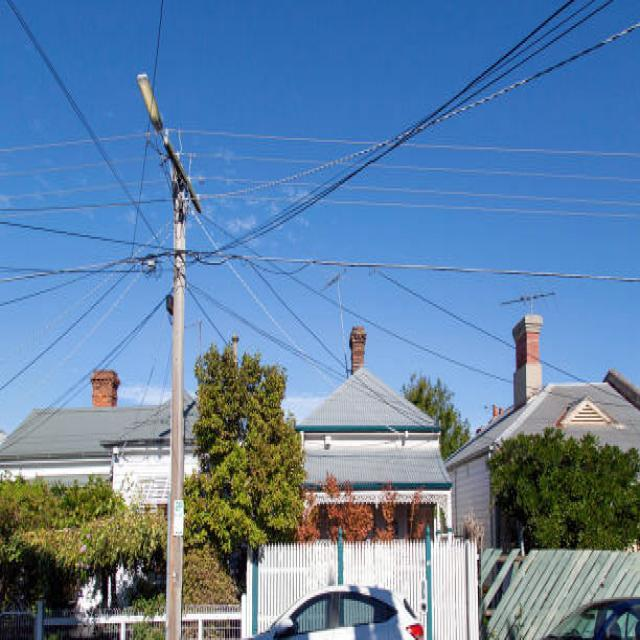crossarm: (163, 134, 201, 215)
pole: (164, 177, 188, 640)
wire: (271, 2, 577, 235), (0, 218, 640, 288), (382, 279, 589, 388)
